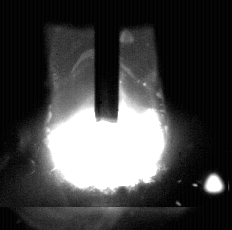arame: (95, 0, 120, 123)
poca: (48, 0, 166, 230)
